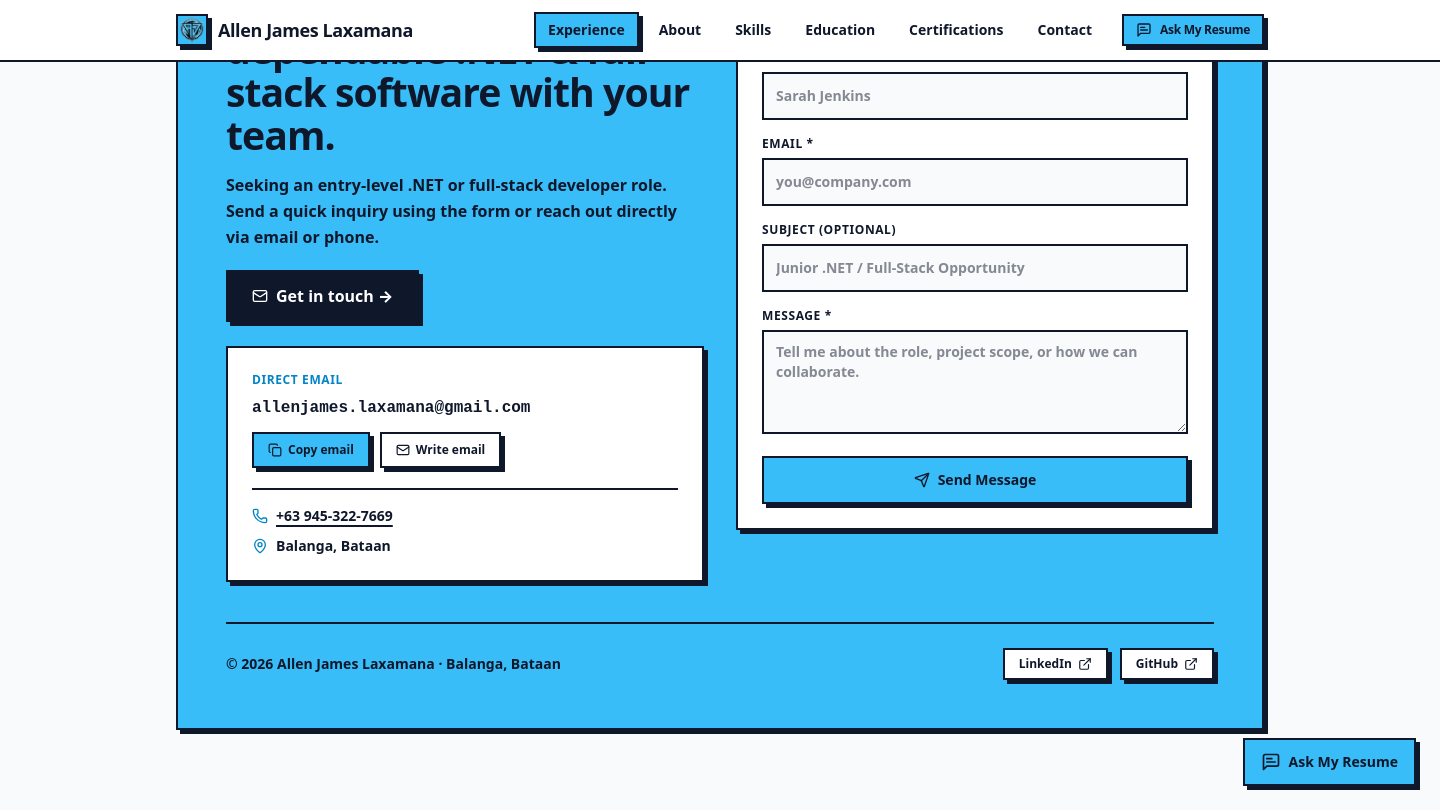
Test: User Story 4: Contact Section & Ask My Resume Hybrid RAG › renders Contact banner with email, Copy email, Write email, phone, location, LinkedIn, and GitHub
(page scrolled)
Expected: the text "allenjames.laxamana@gmail.com" is shown, [252,399,530,417]
Expected: the link "+63 945-322-7669" is shown, [276,506,393,526]
Click the button "Copy email" at (311, 450), box [252,432,370,468]
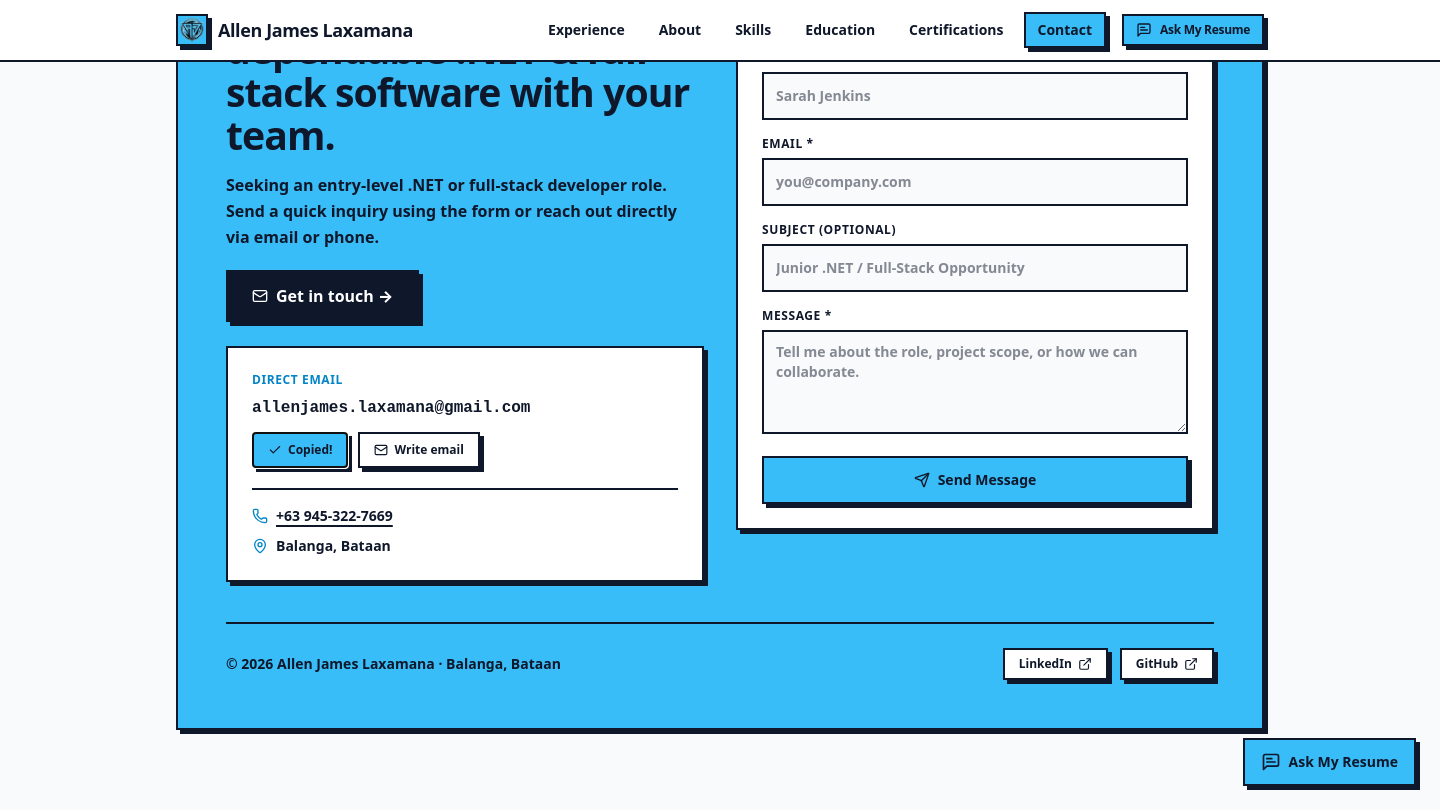
Now the button "Copied!" is shown, box [252,432,348,468]
